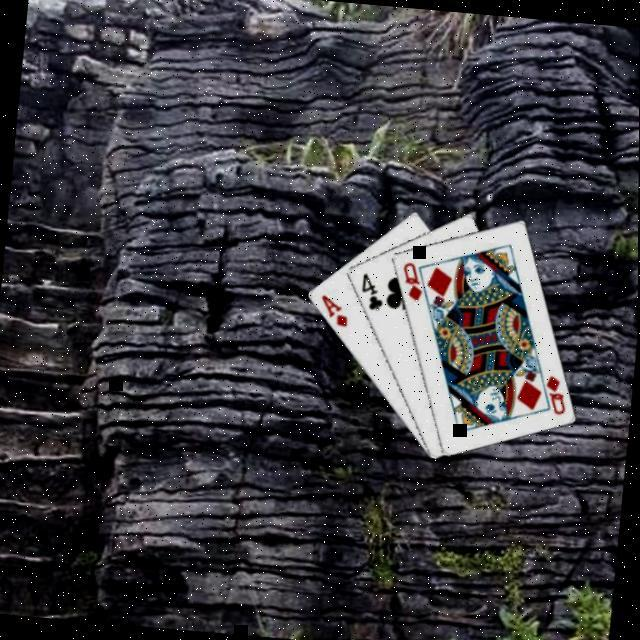4C: (354, 268, 386, 312)
AD: (313, 288, 350, 327)
QD: (537, 368, 569, 416), (394, 256, 426, 302)
